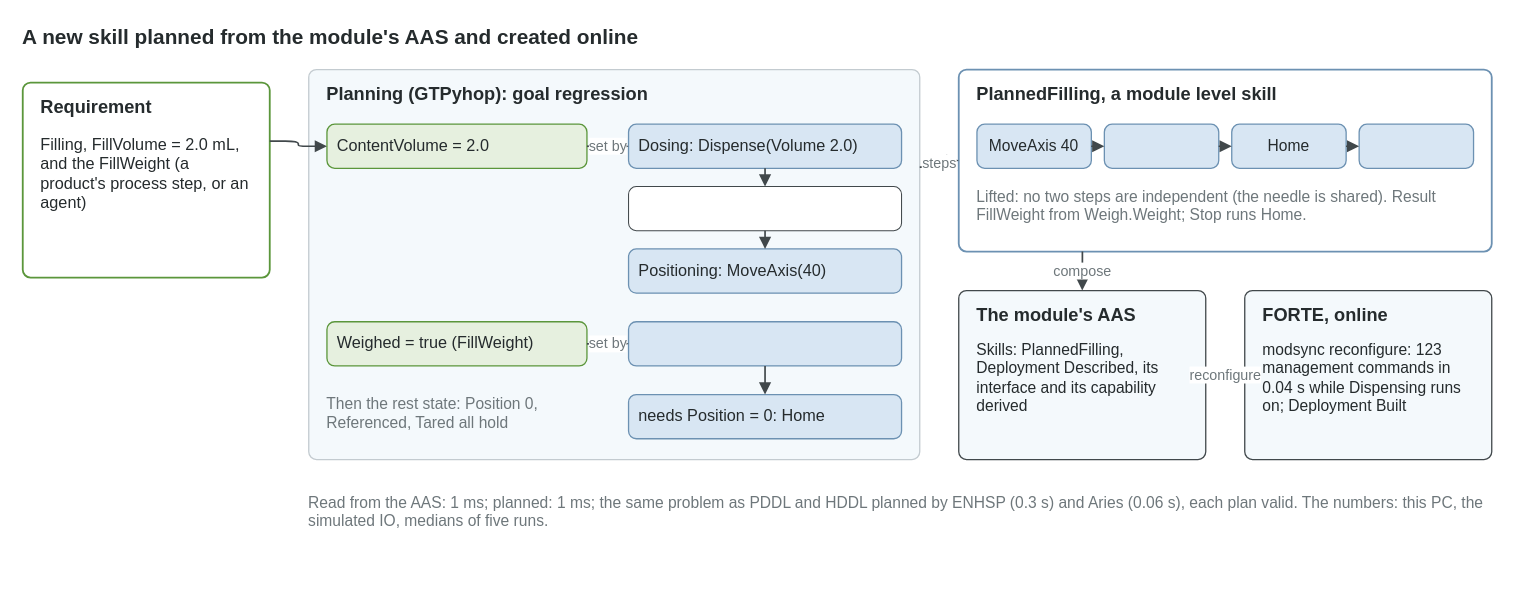
This 1517x614 diagram has some shape labels left out. Here are the shapes that lost their labels. From the top down, the centre of each, then its label:
At point (1161, 145): "Dispense 2.0".
At point (1416, 145): "Weigh".
At point (764, 208): "needs Position = 40".
At point (764, 343): "Weighing: Weigh".
